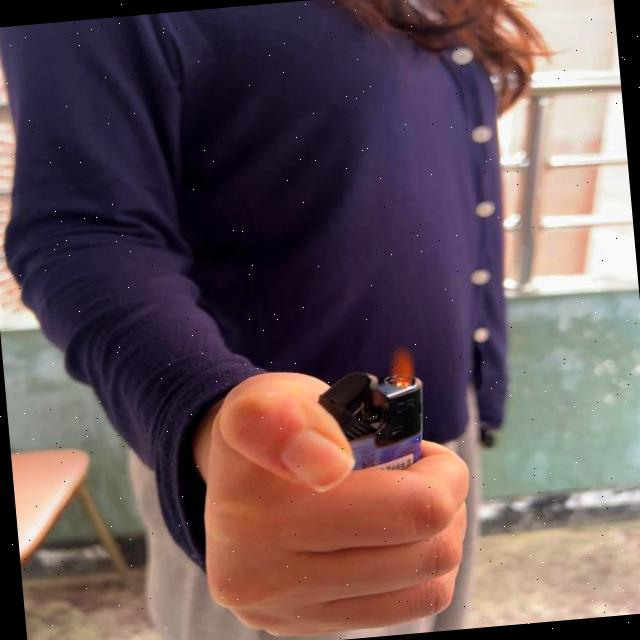fire: (386, 342, 416, 390)
